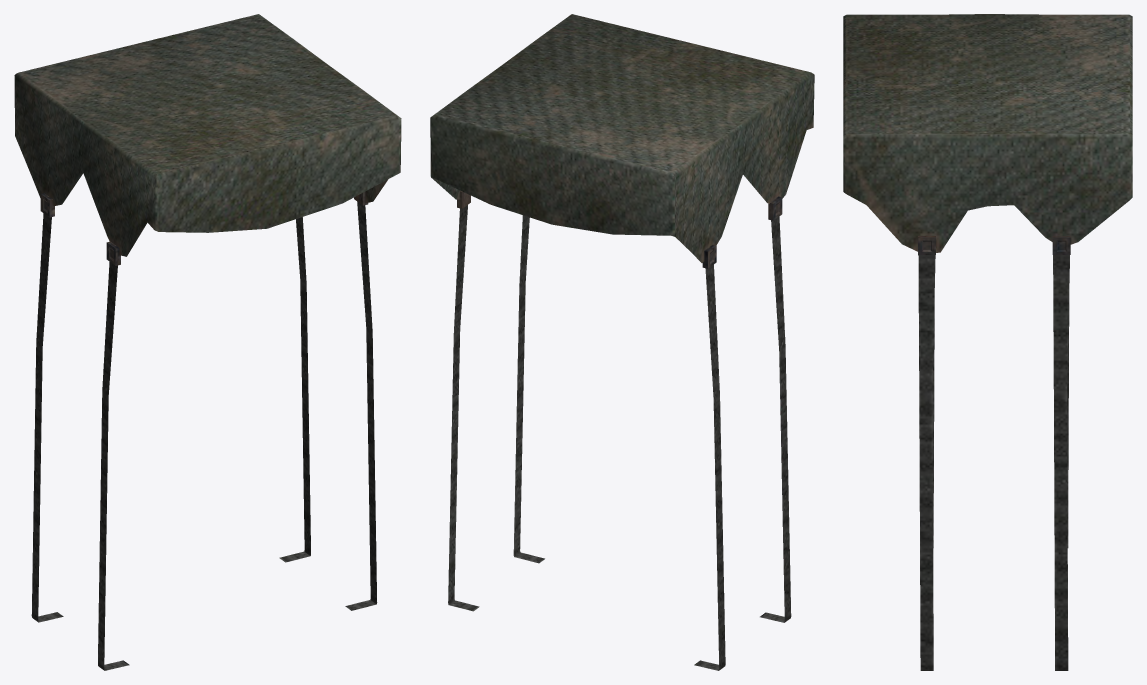
File: CrateTop_M.FBX
3 views of the same model, side by side, from view 1: azimuth 30°, elevation 25°; view 2: azimuth 150°, elevation 25°; view 3: azimuth 270°, elevation 25° (orthographic). The views are drawn at different scales.
Visible parts, largest first — view 1: CrateTop_M; view 2: CrateTop_M; view 3: CrateTop_M.
Part boxes in pixels (box(x1,y1,x2,y2)): CrateTop_M: box(14, 14, 401, 670); CrateTop_M: box(430, 14, 814, 670); CrateTop_M: box(843, 14, 1132, 670).
Bounding box in the file's own units: 99.75 × 181 × 89.93.
